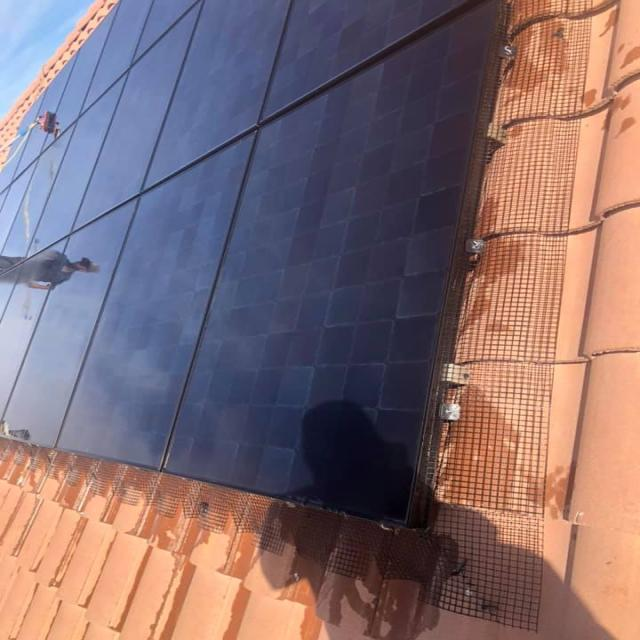clean-solar-panel: (2, 0, 498, 522)
